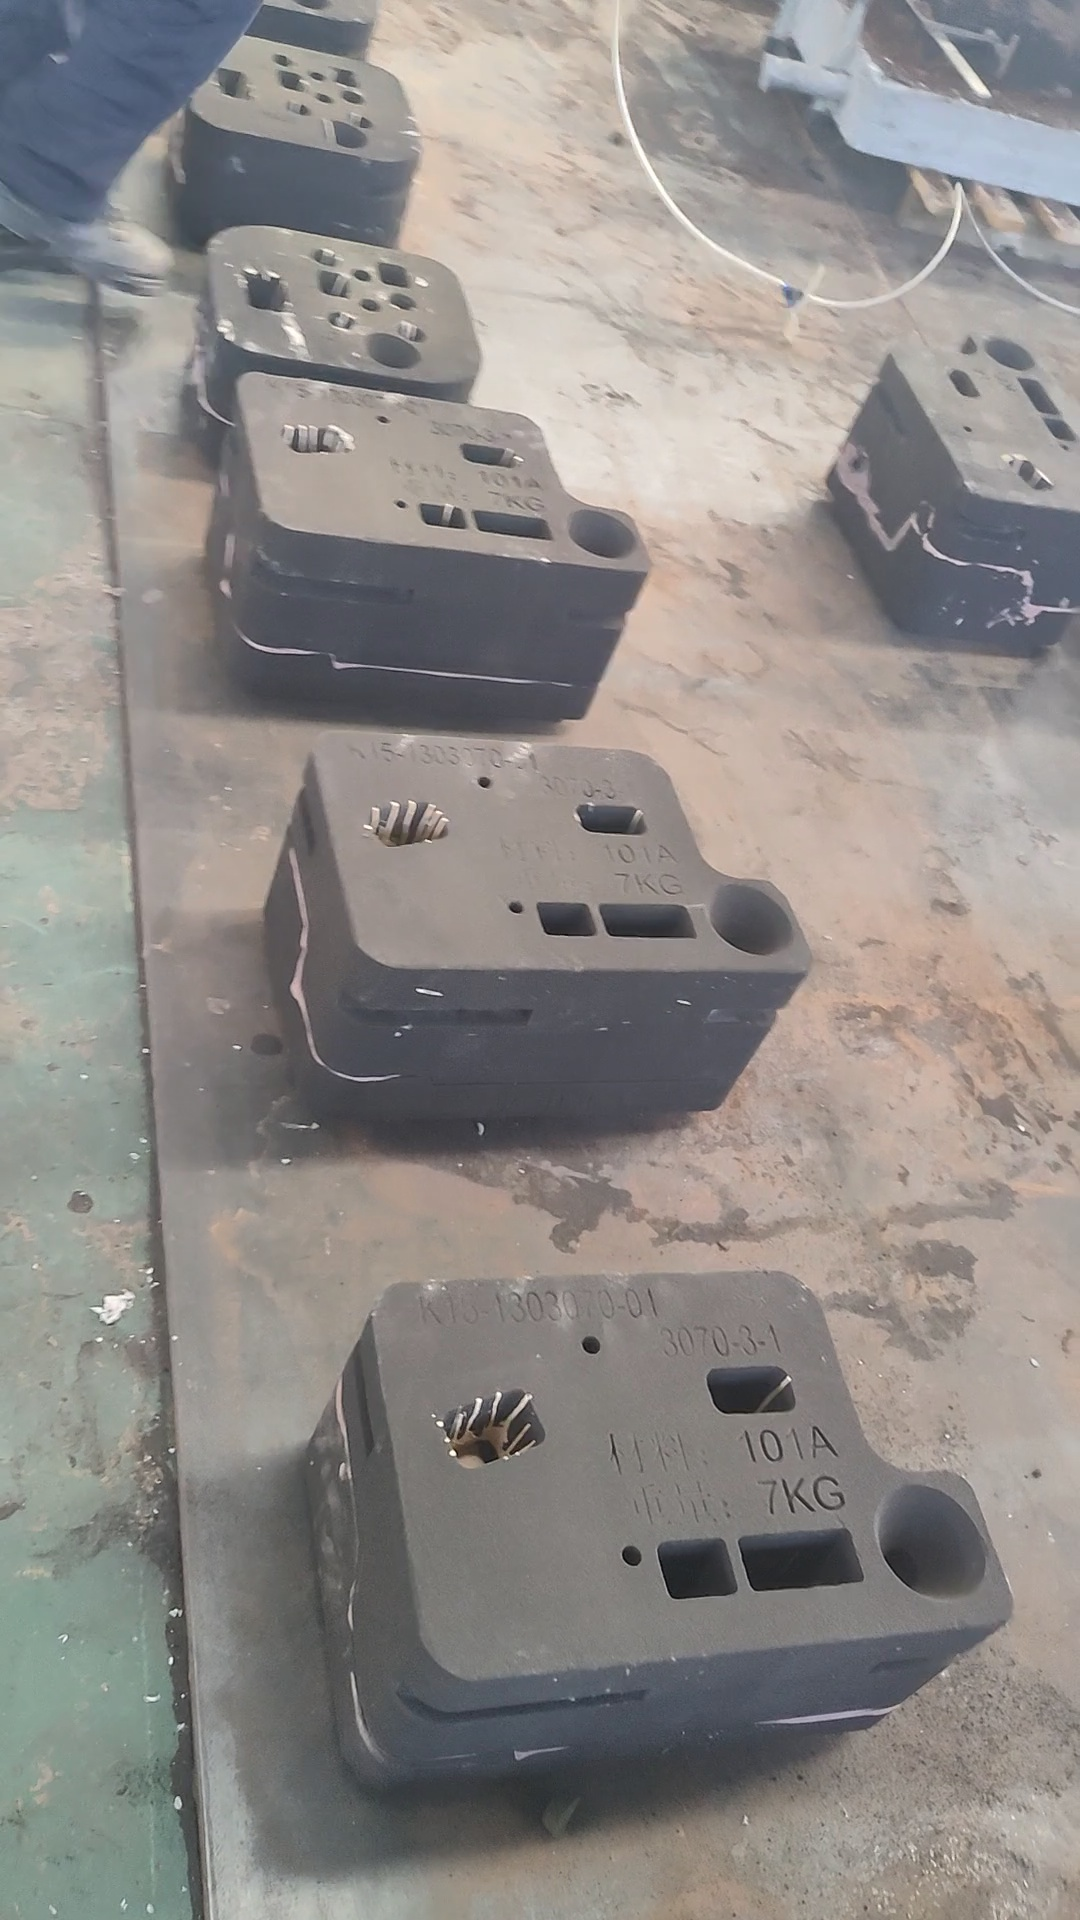pouring hole: (876, 1484, 988, 1604), (708, 884, 793, 957), (568, 506, 640, 560), (363, 334, 422, 371), (982, 336, 1036, 372), (320, 119, 367, 148), (291, 1, 336, 11)
